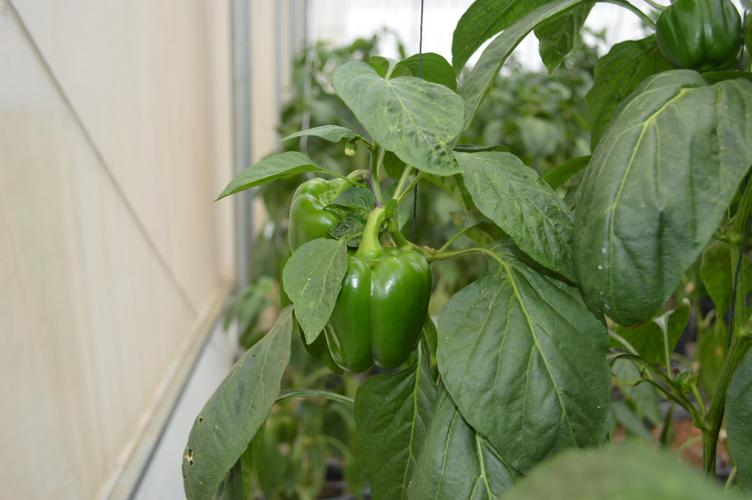BellPepper: (321, 245, 431, 368), (656, 1, 738, 72), (285, 175, 363, 247)
